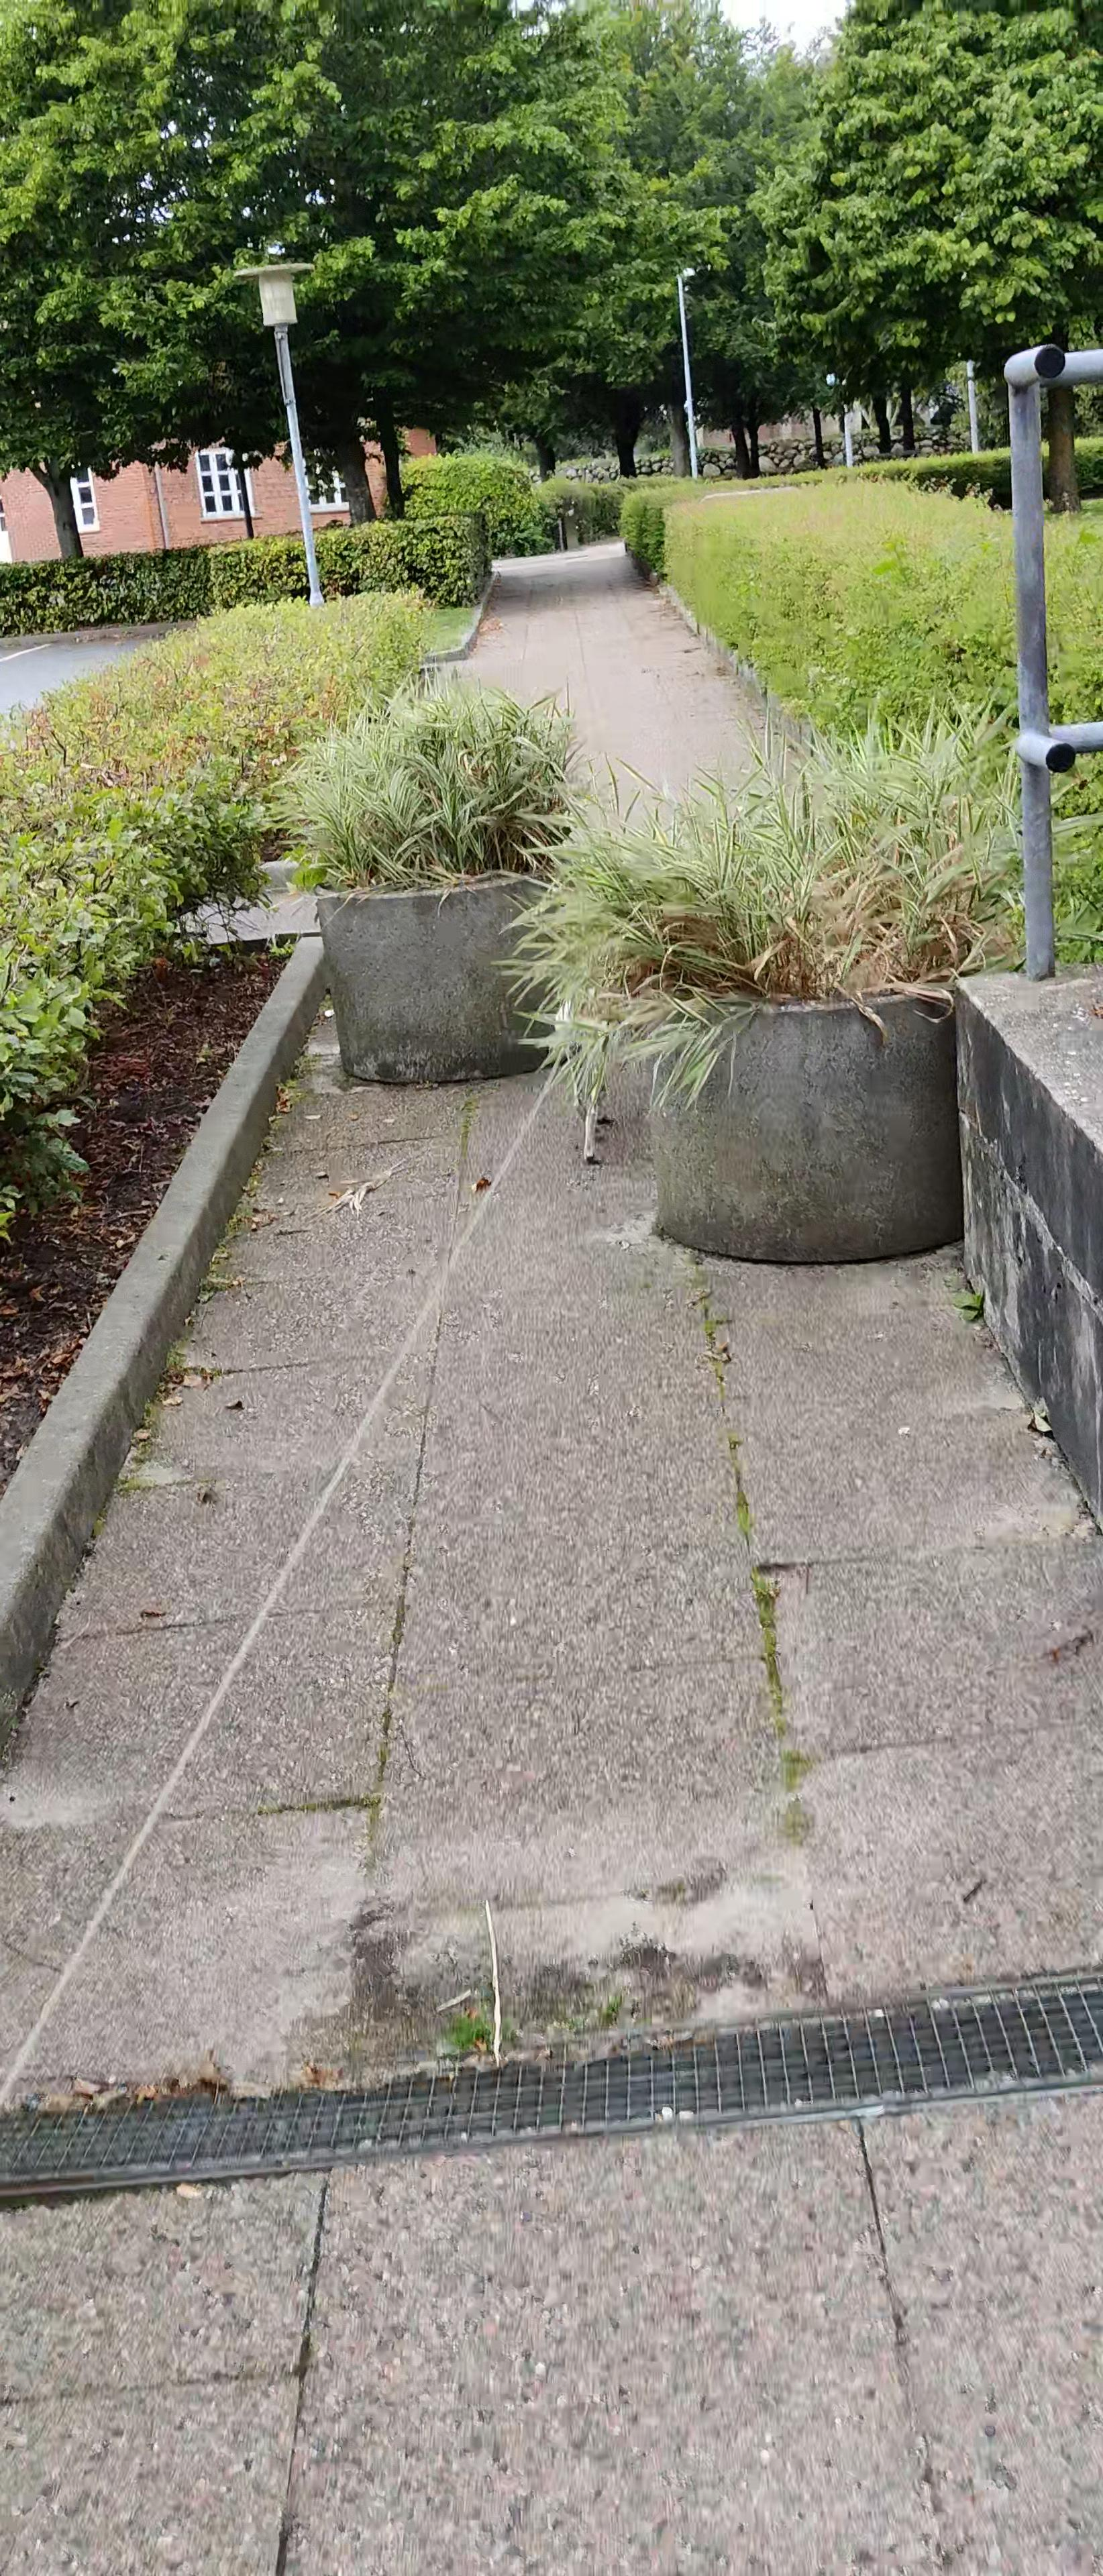Dog: (552, 976, 621, 1165)
